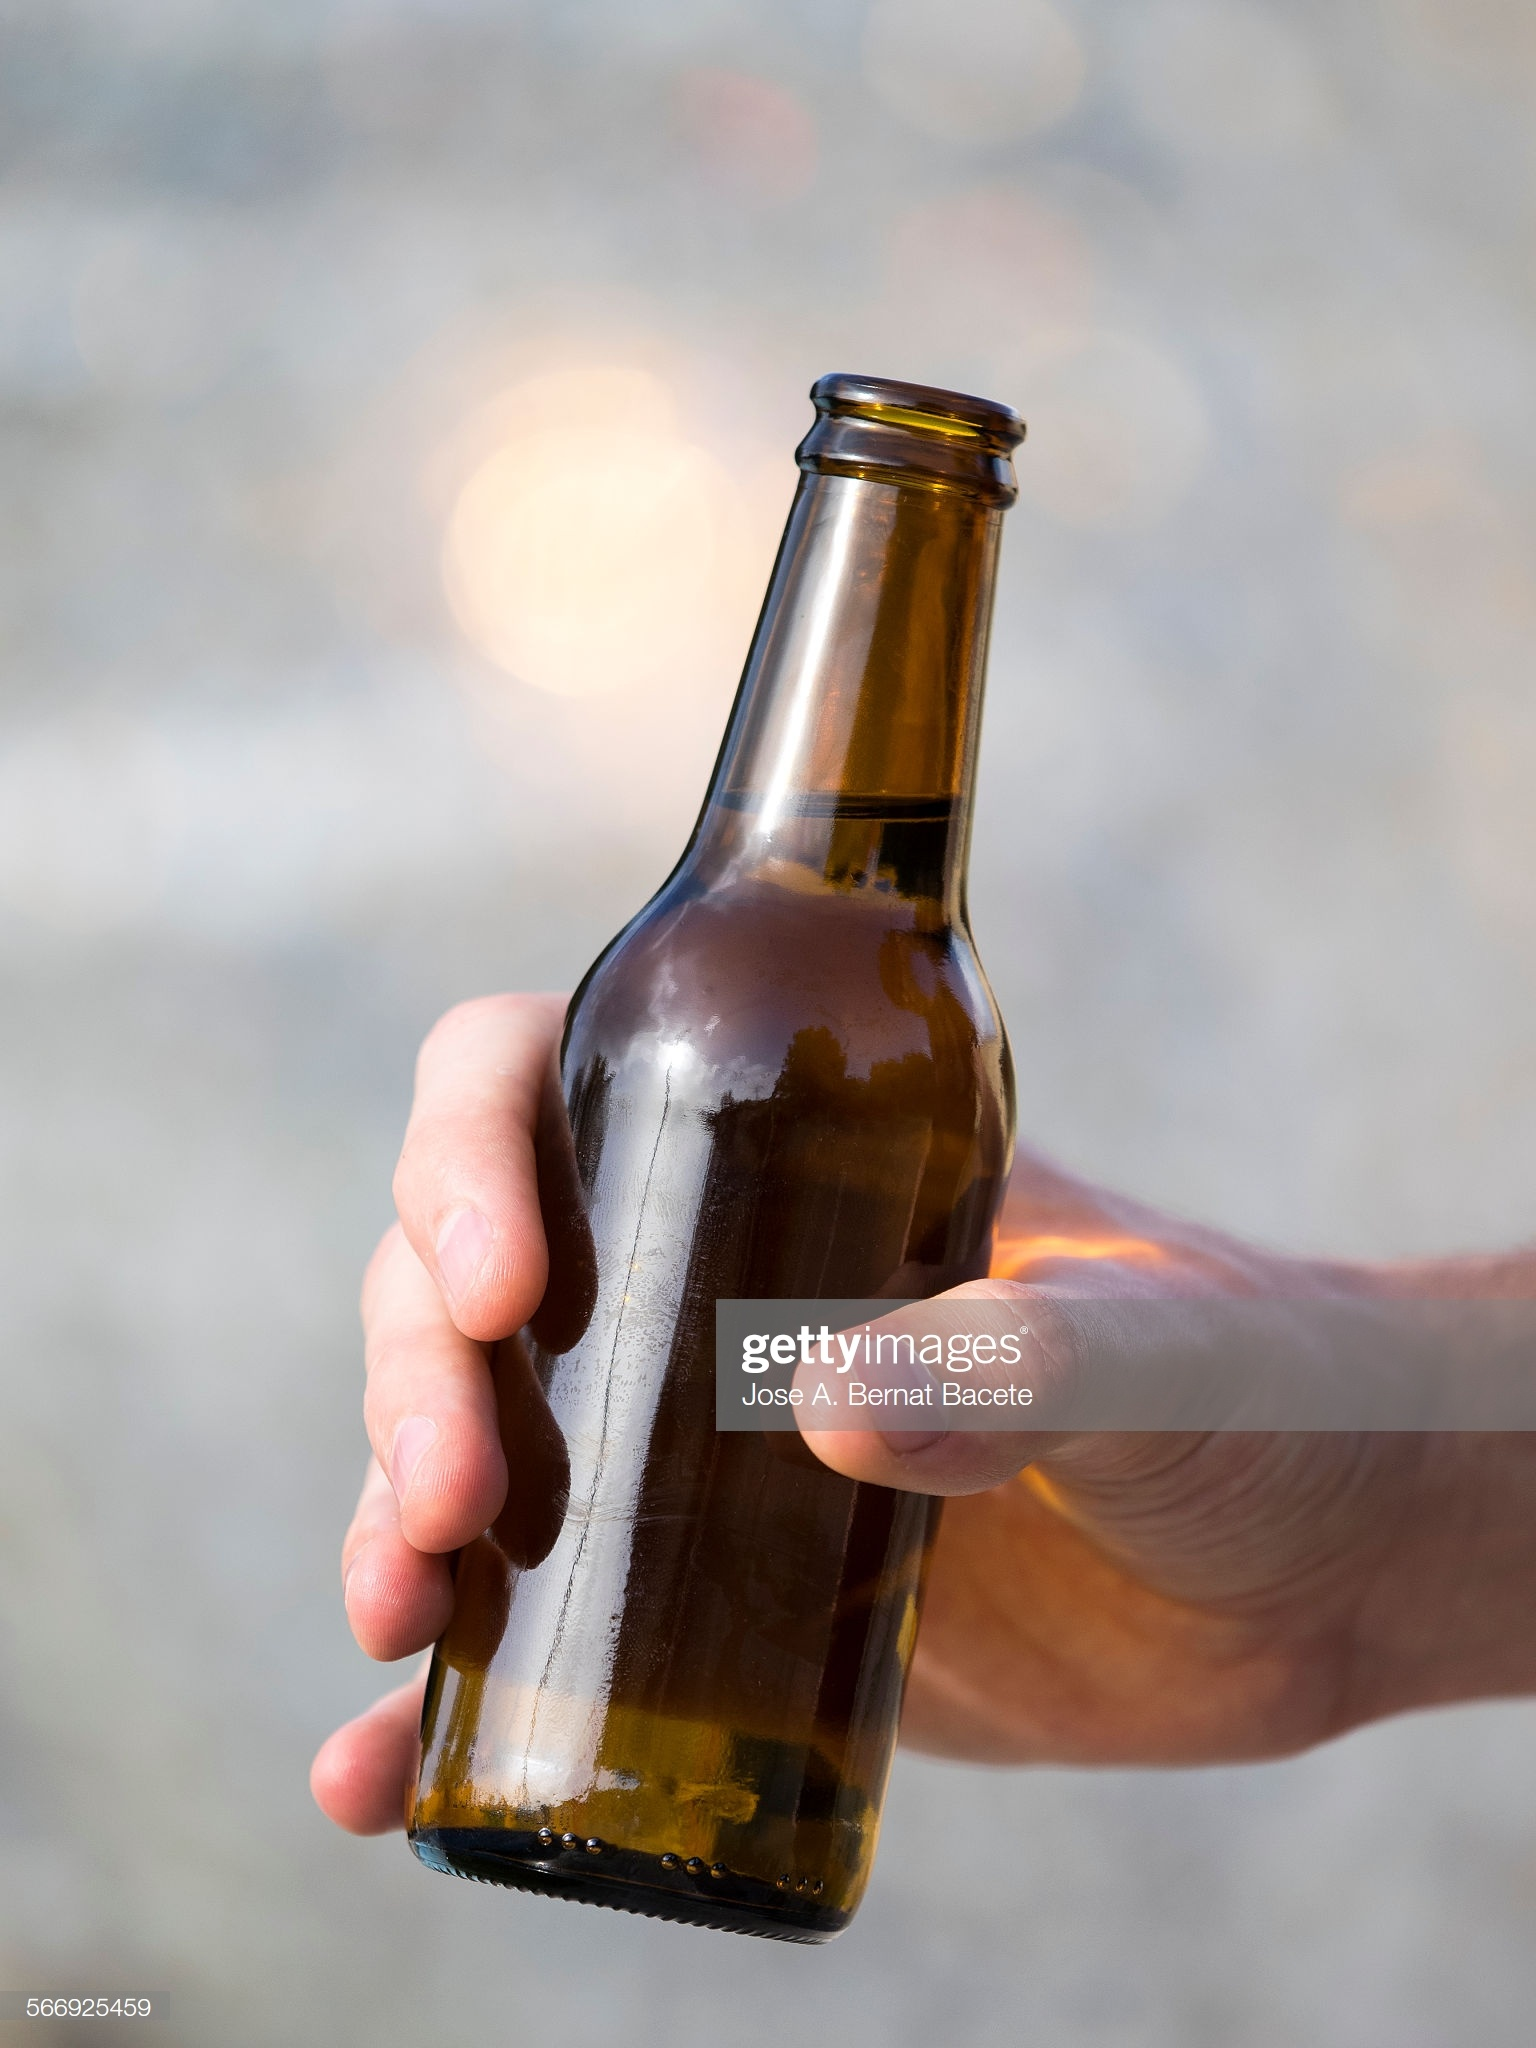beerBottle: (394, 379, 1037, 1908)
